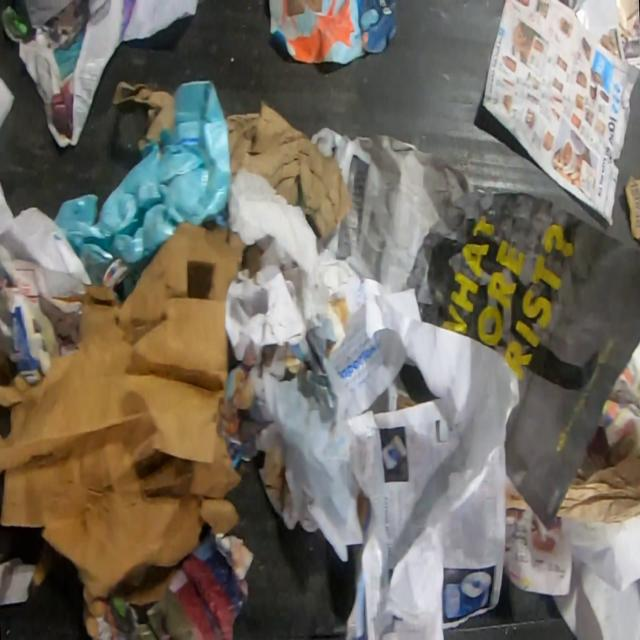cardboard: (0, 218, 246, 617)
soft_plastic: (52, 79, 232, 279)
